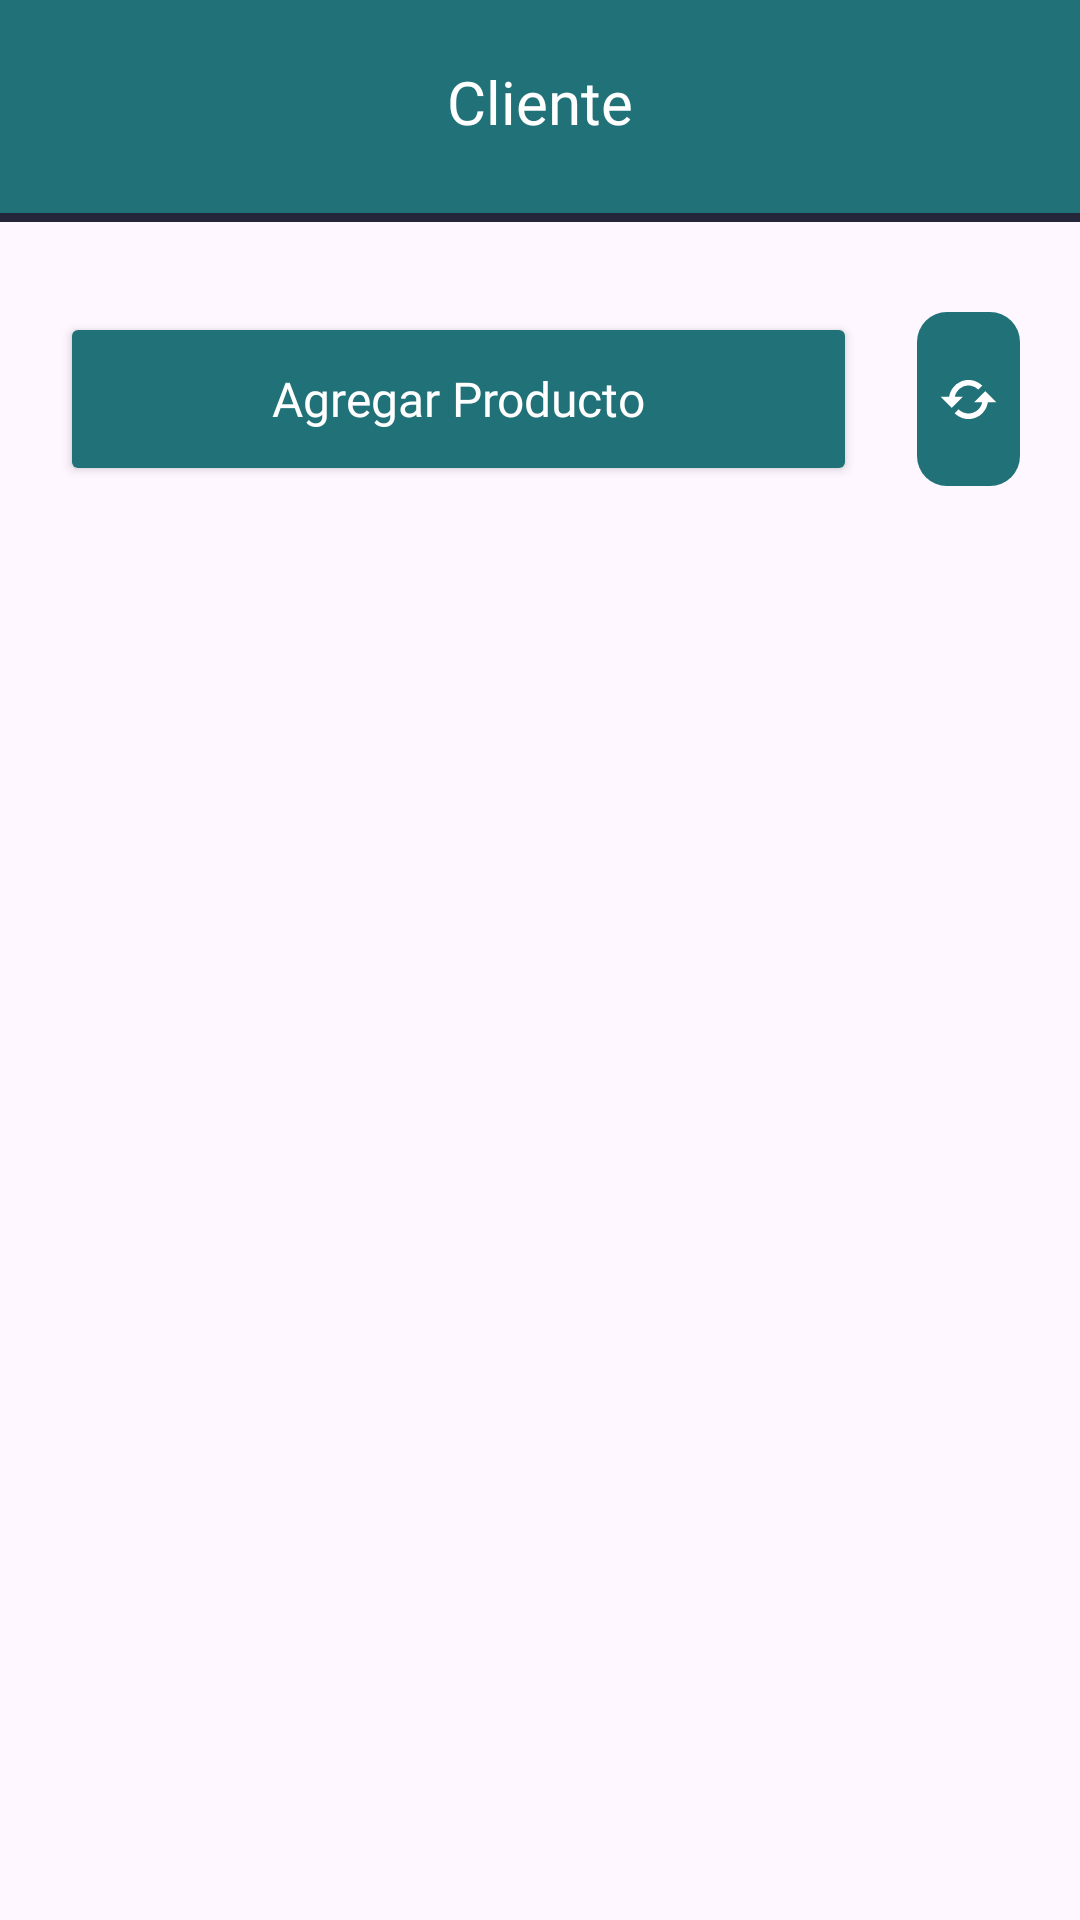

Icon bounding boxes for this 1080px×1920px phone screenshot, format bbox=(x1, y1, x2, y2):
refresh: bbox=(920, 315, 1017, 483)
